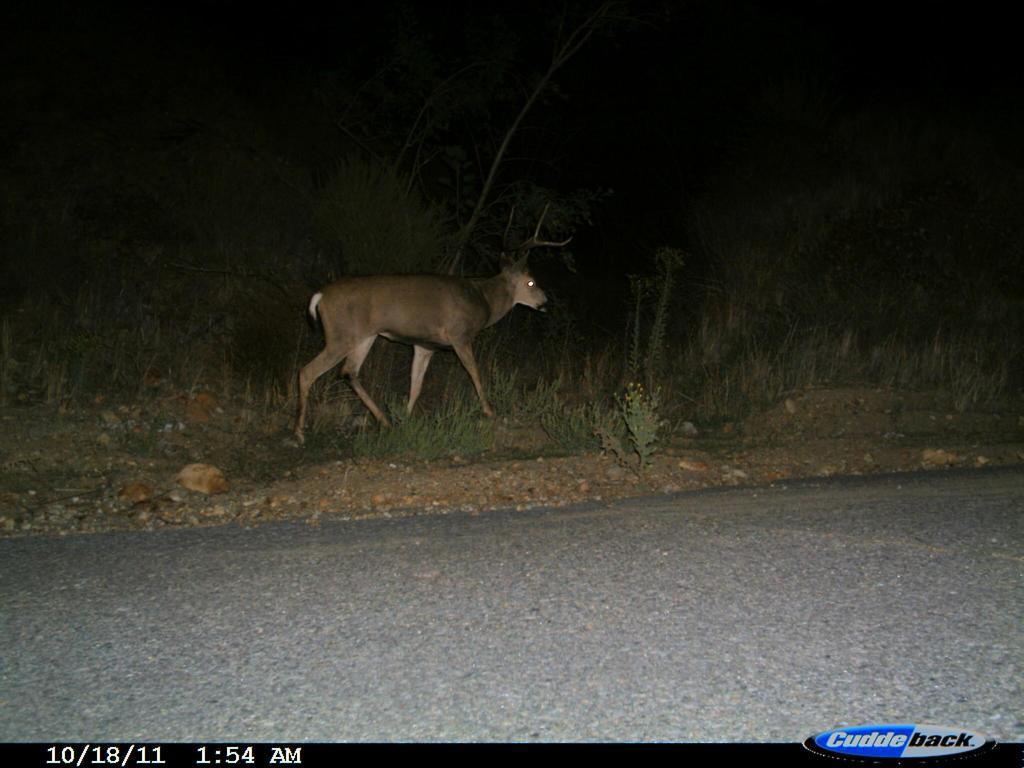deer: (294, 204, 579, 445)
